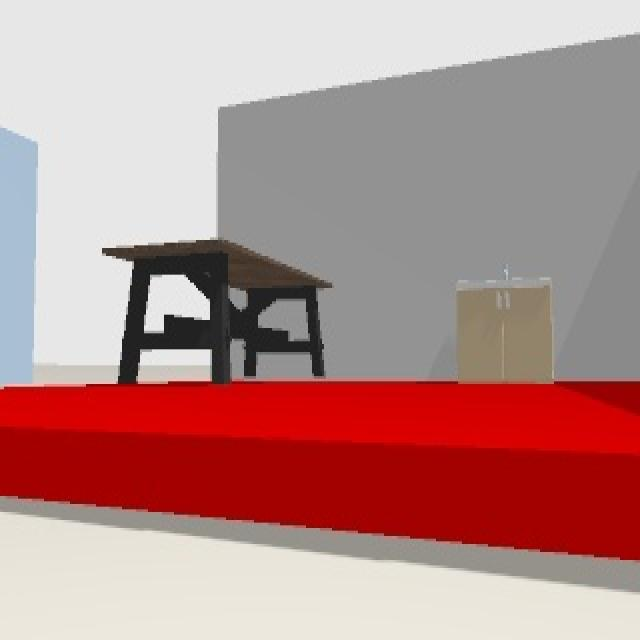dining: (105, 238, 332, 384)
